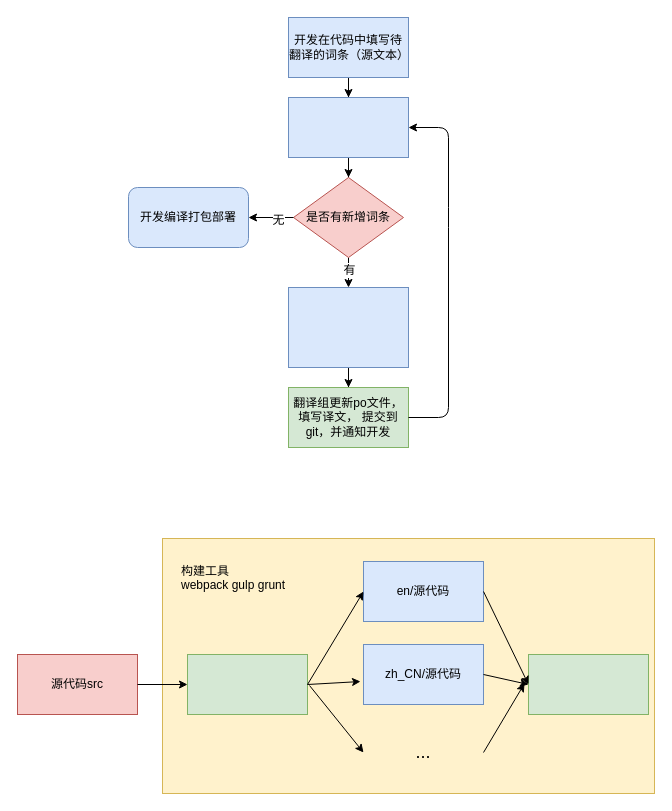
The diagram is 672 pixels wide and 811 high, and some of its shapes have lost their labels. The centre of each missing label's shape, as x and y in pixels:
多语言模块 (多语言包括：en, zh_CN...): the point at 247,684
开发利用项目构建工具编译: the point at 348,127
编译，代码的压缩，合并，打包: the point at 588,684
通过构建工具，新词条会自动保存到对应po文件，开发提交po文件到git,并通知翻译组: the point at 348,327
